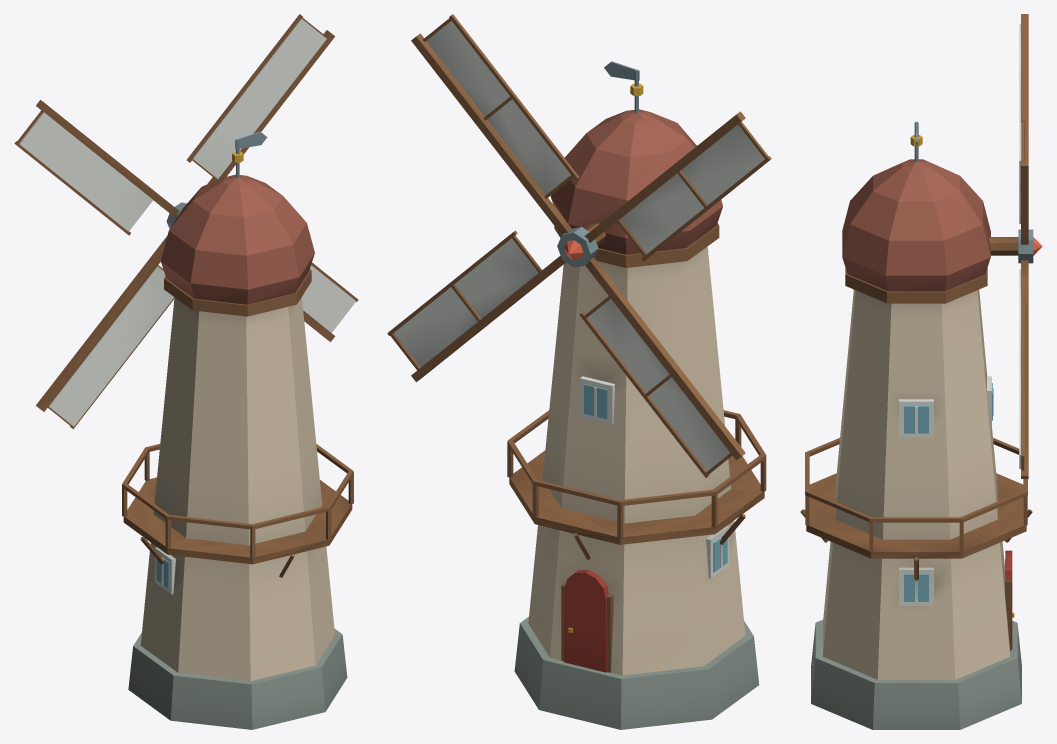
The model's file is sm_env_landmark_windmill.glb.
3 views of the same model, side by side, from view 1: azimuth 30°, elevation 25°; view 2: azimuth 150°, elevation 25°; view 3: azimuth 270°, elevation 25° (orthographic). The views are drawn at different scales.
Visible parts, largest first — view 1: MillTower, MillCap, MillPlinth, GalleryDeck, Sail.001, Sail, Sail.002, SailArm.002, GalleryRail, Sail.003, CapRim, SailArm.001 (+2 smaller); view 2: MillTower, MillPlinth, MillCap, GalleryDeck, Sail.001, Sail.003, Sail, Sail.002, MillDoor, SailArm.002, SailArm, GalleryRail (+12 smaller); view 3: MillTower, MillCap, MillPlinth, GalleryDeck, GalleryRail, CapRim, SailArm.003, SailArm.001, SailEdge.003, SailArm, WindowFrame.003, WindowFrame.001 (+4 smaller).
Boxes of the visible parts, box(x1,y1,x2,y2) form: MillTower: box(140, 297, 334, 681); MillCap: box(160, 174, 314, 304); MillPlinth: box(128, 628, 347, 729); GalleryDeck: box(123, 477, 352, 564); Sail.001: box(19, 112, 152, 231); Sail: box(193, 18, 326, 178); Sail.002: box(49, 266, 174, 426); SailArm.002: box(36, 236, 167, 411); GalleryRail: box(122, 444, 353, 529); Sail.003: box(302, 265, 356, 332); CapRim: box(164, 269, 311, 316); SailArm.001: box(36, 100, 179, 217); MillTower: box(528, 246, 745, 675); MillPlinth: box(514, 616, 759, 729); MillCap: box(550, 109, 722, 254); GalleryDeck: box(509, 450, 764, 544); Sail.001: box(620, 124, 764, 253); Sail.003: box(394, 238, 538, 367); Sail: box(426, 21, 570, 194); Sail.002: box(588, 299, 729, 471); MillDoor: box(564, 589, 606, 672); SailArm.002: box(585, 257, 745, 460); SailArm: box(411, 33, 572, 234); GalleryRail: box(507, 410, 766, 506); MillTower: box(823, 289, 1010, 679); MillCap: box(842, 159, 990, 291); MillPlinth: box(811, 619, 1021, 729); GalleryDeck: box(806, 473, 1026, 558); GalleryRail: box(805, 438, 1027, 522); CapRim: box(845, 267, 987, 303); SailArm.003: box(1021, 260, 1028, 478); SailArm.001: box(1021, 14, 1028, 158); SailEdge.003: box(1021, 276, 1024, 457); SailArm: box(1021, 158, 1028, 244); WindowFrame.003: box(899, 399, 933, 437); WindowFrame.001: box(899, 567, 933, 605).
Bounding box in the file's own units: 8.24 × 13.87 × 4.88.
